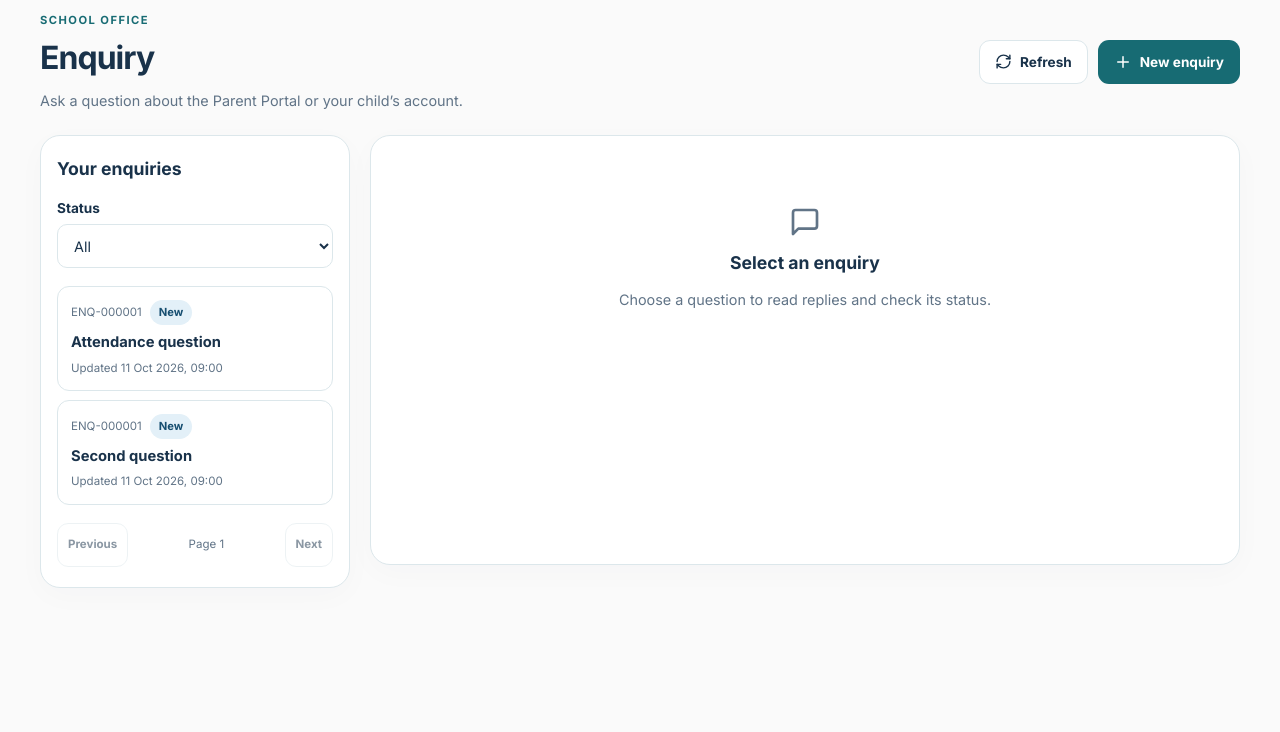
Test: a late response cannot replace the newly selected conversation
This screenshot has width=1280, height=732.
Step 1. Click the 1st button with class "enquiry-row" → (195, 339), box [57, 286, 333, 391]
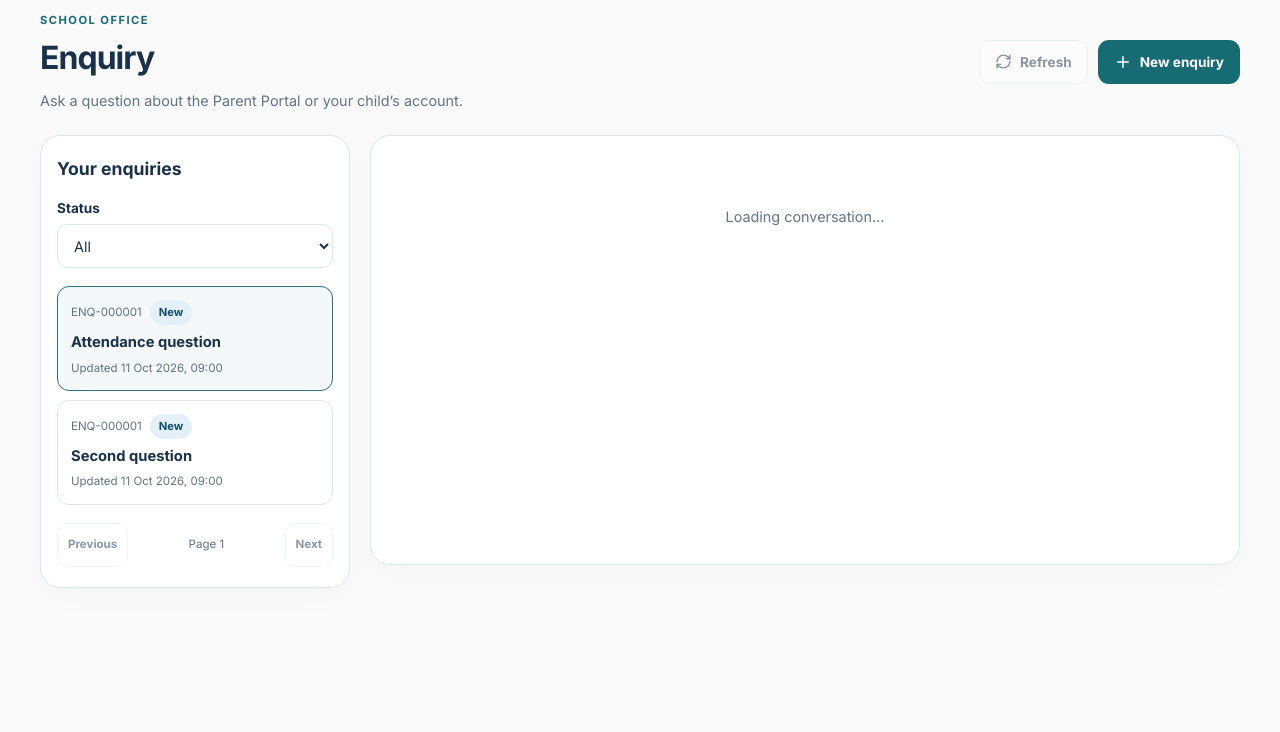
Step 2. Click the 2nd button with class "enquiry-row" → (195, 452), box [57, 400, 333, 504]
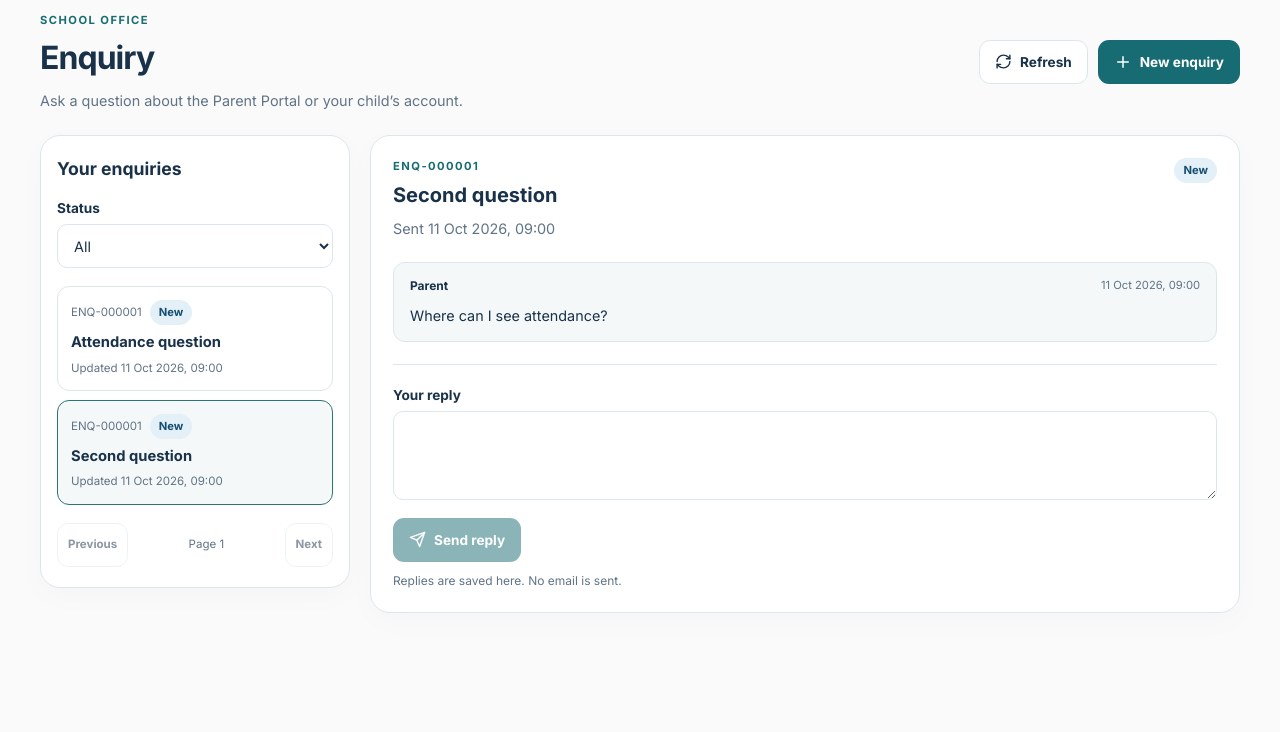
expect the heading "Second question" is shown: met, box [393, 180, 558, 210]
